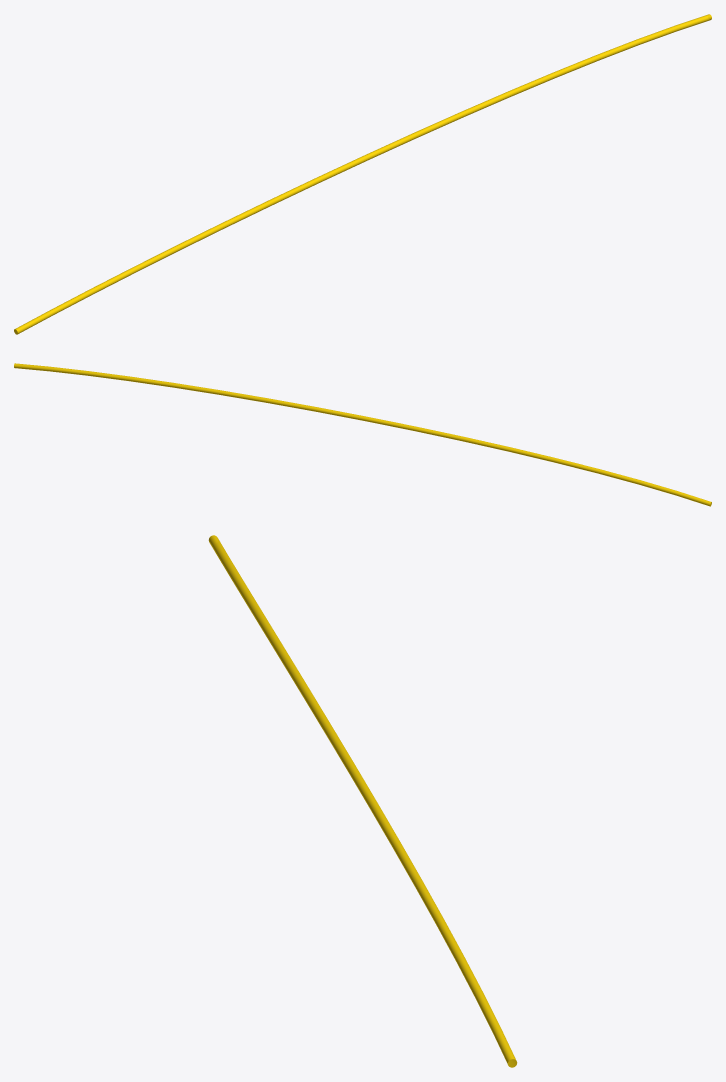
The model's file is Event_421115418_track_68.fbx.
The picture shows the model from 3 angles, top to bottom: view 1: azimuth 30°, elevation 25°; view 2: azimuth 150°, elevation 25°; view 3: azimuth 270°, elevation 25°; orthographic projection. The views are drawn at different scales.
Visible parts, largest first — view 1: Model; view 2: Model; view 3: Model.
Part boxes in pixels (x1=…): Model: x1=14, y1=14, x2=711, y2=334; Model: x1=14, y1=363, x2=711, y2=506; Model: x1=208, y1=535, x2=517, y2=1067.
Size of the model in its own units: 6 by 0.4435 by 1.29.
